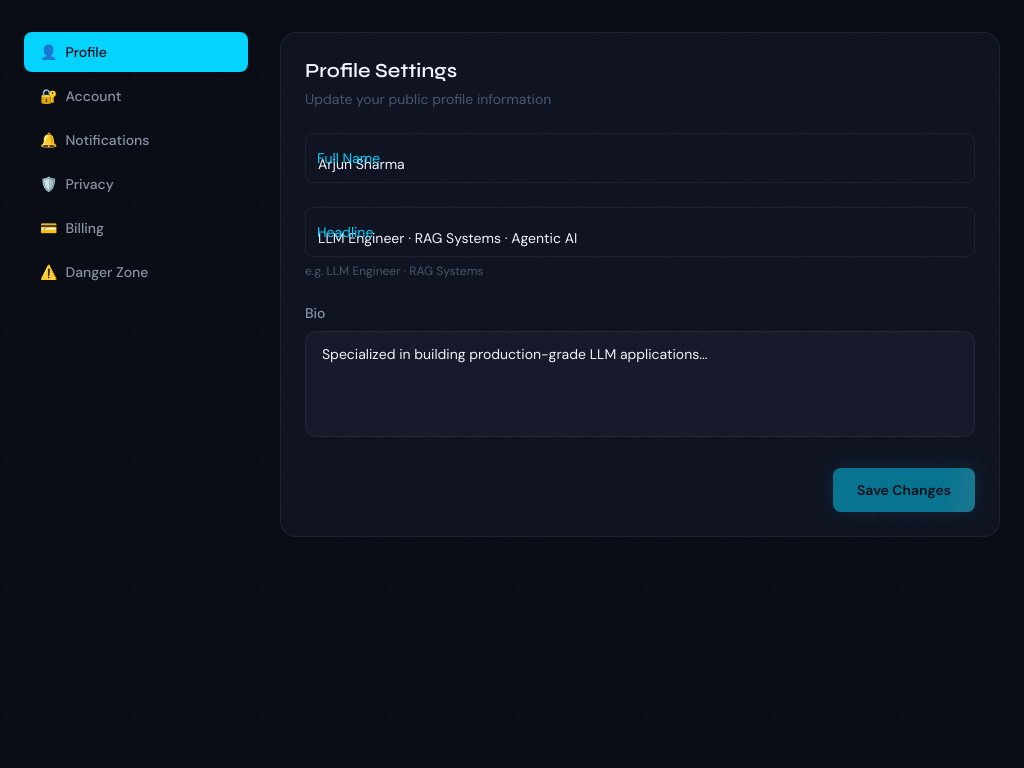
Module 7: Payments, Analytics & Settings › Settings › follows 3-step confirmation for account deletion
Click the button "⚠️ Danger Zone": x=136, y=272 top-left (24, 252), bottom-right (248, 292)
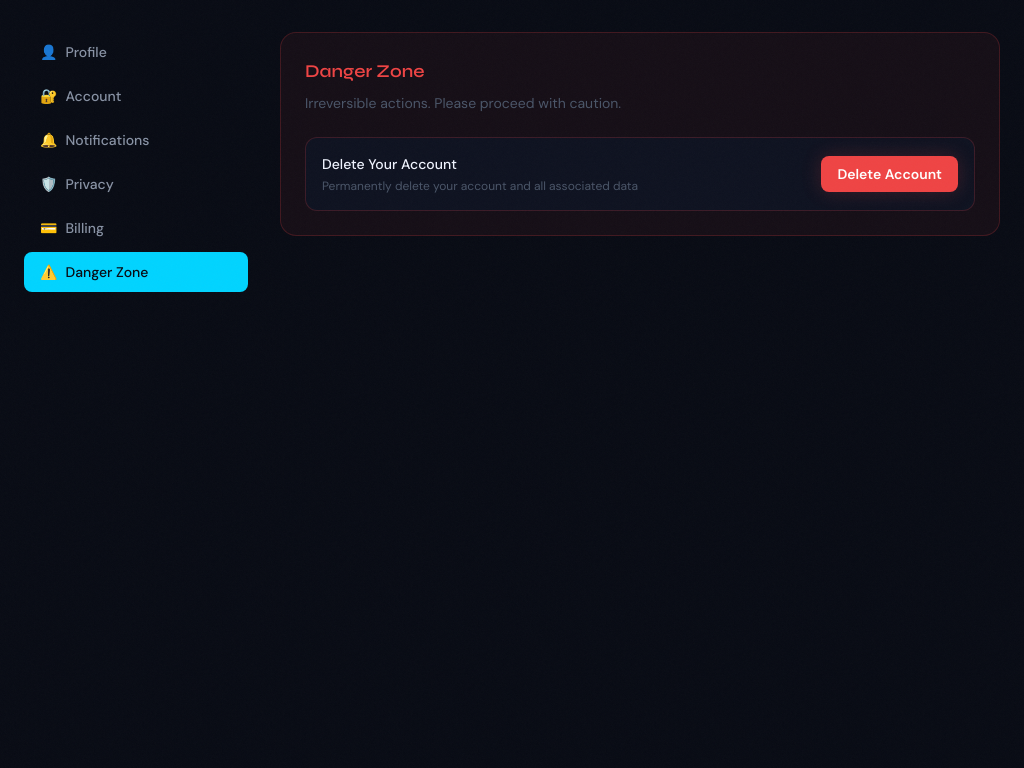
Click the button with test id "open-delete-modal-btn": x=890, y=174 top-left (821, 156), bottom-right (958, 192)
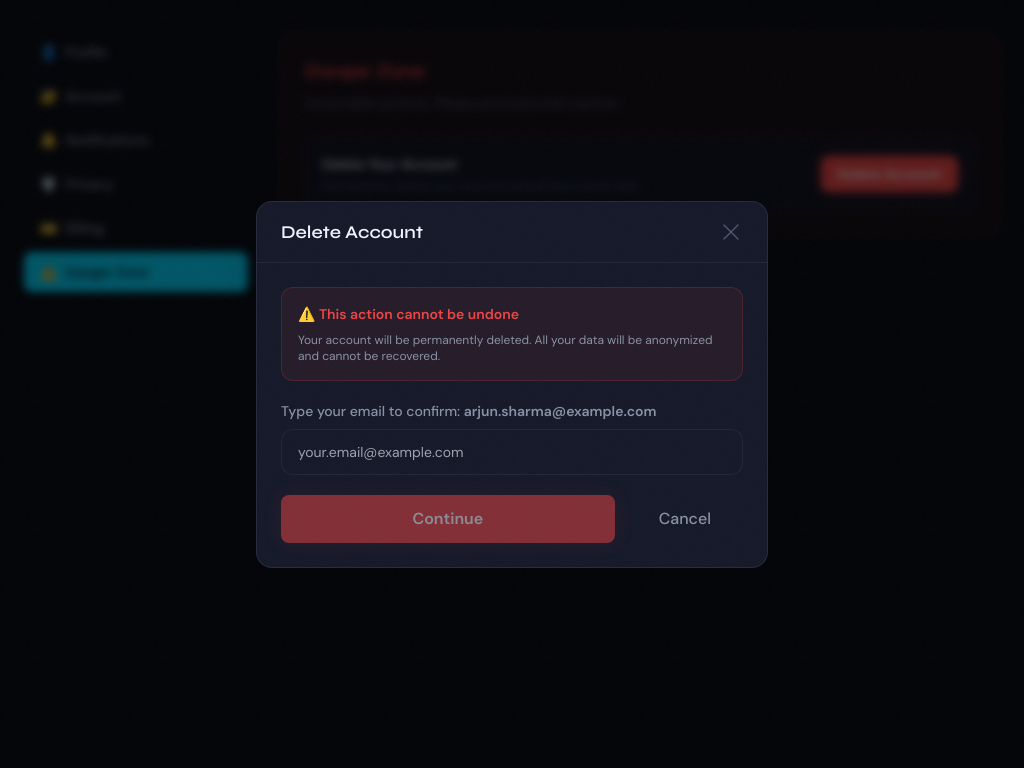
// Email confirmation
In the field with test id "delete-email-input": x=512, y=452 top-left (281, 428), bottom-right (743, 474), type "arjun.sharma@example.com"
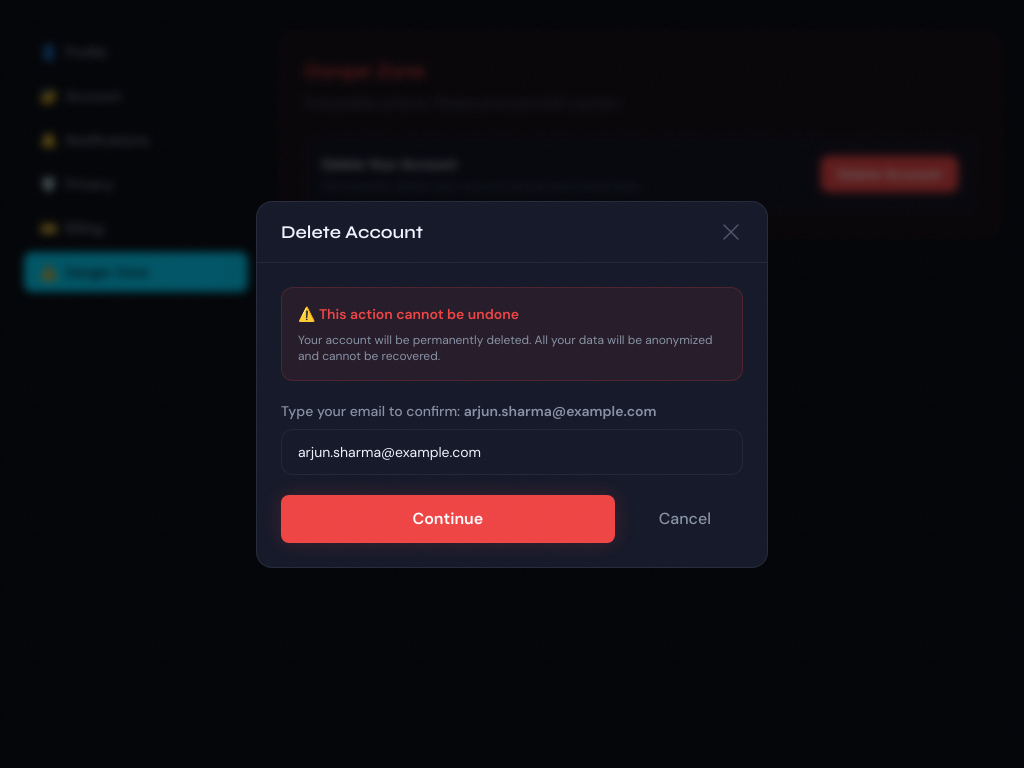
Click the button with test id "delete-step1-btn": x=448, y=518 top-left (281, 494), bottom-right (615, 542)
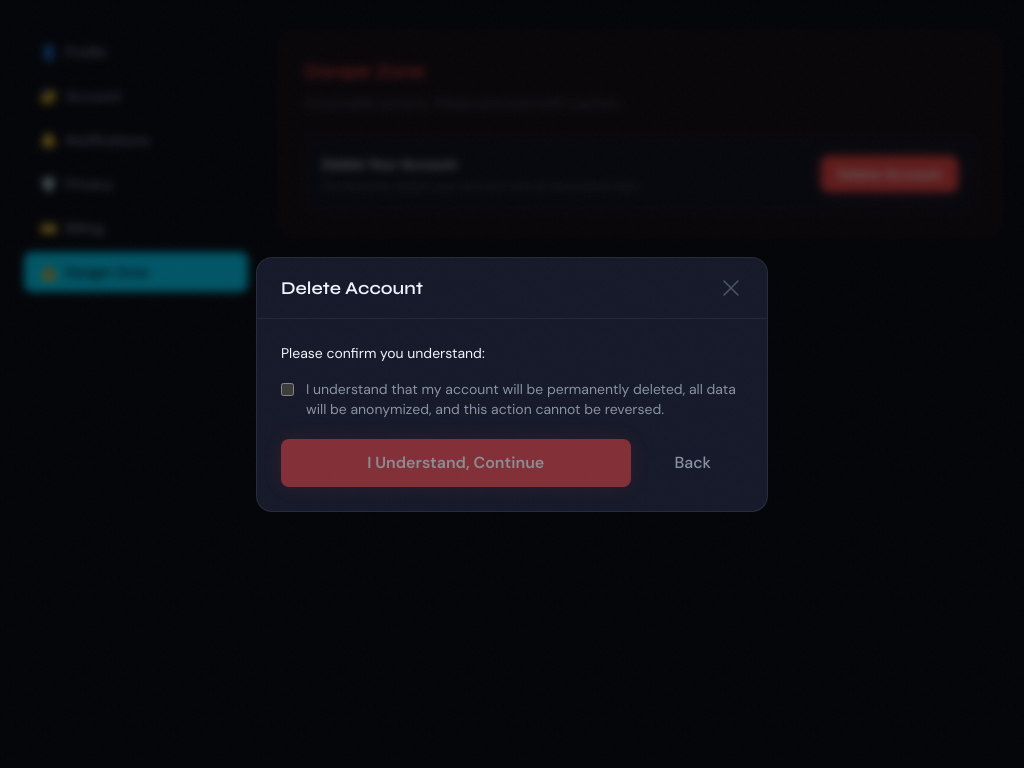
Now the text "I understand that my account will be permanently deleted" is shown, box top-left (306, 380), bottom-right (736, 418)
Click the checkbox: x=288, y=389 top-left (281, 382), bottom-right (294, 396)
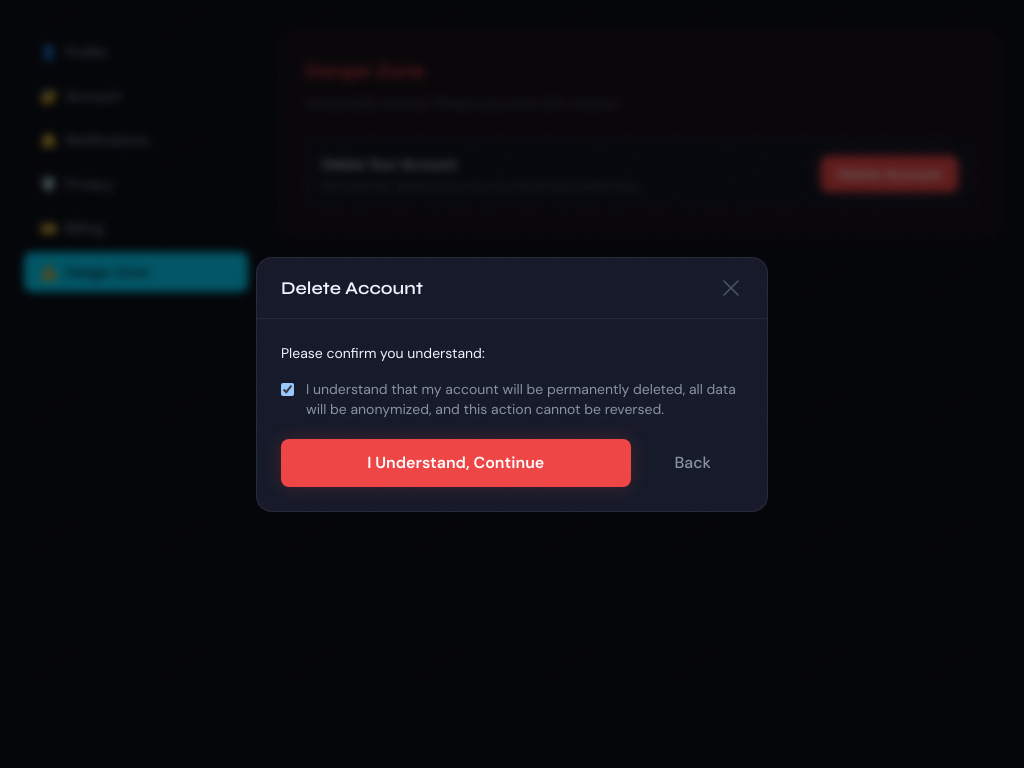
Click the button "I Understand, Continue": x=456, y=462 top-left (281, 438), bottom-right (630, 486)
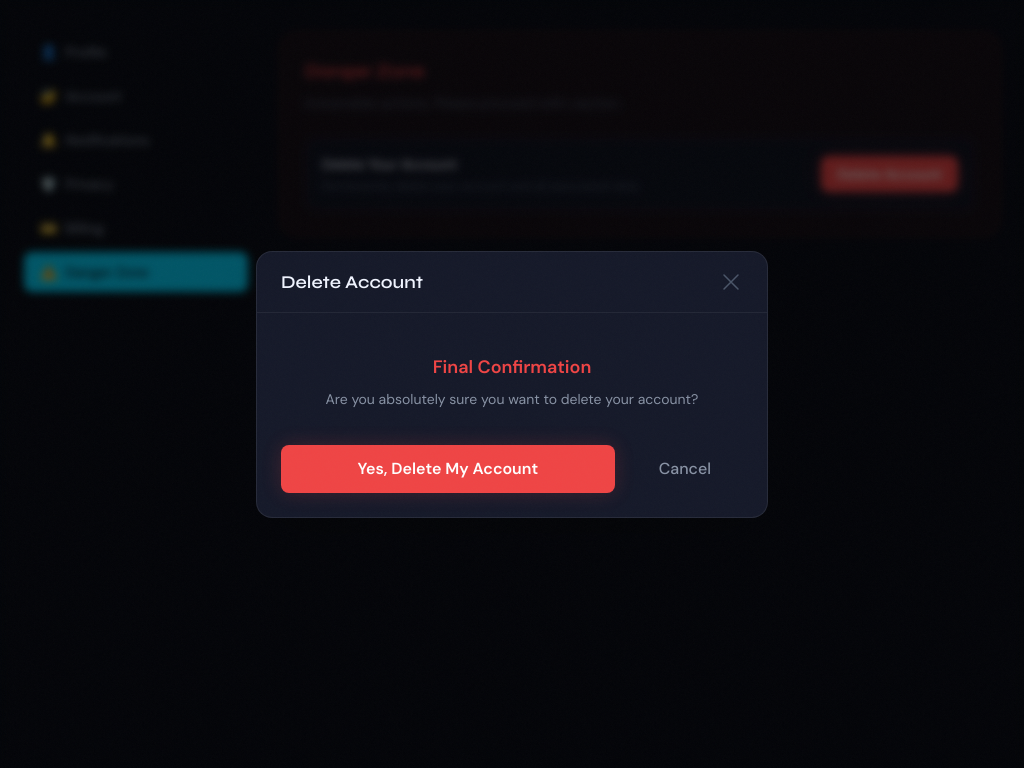
Now the text "Final Confirmation" is shown, box top-left (433, 354), bottom-right (591, 378)
Now the button with test id "final-delete-btn" is shown, box top-left (281, 444), bottom-right (615, 492)
